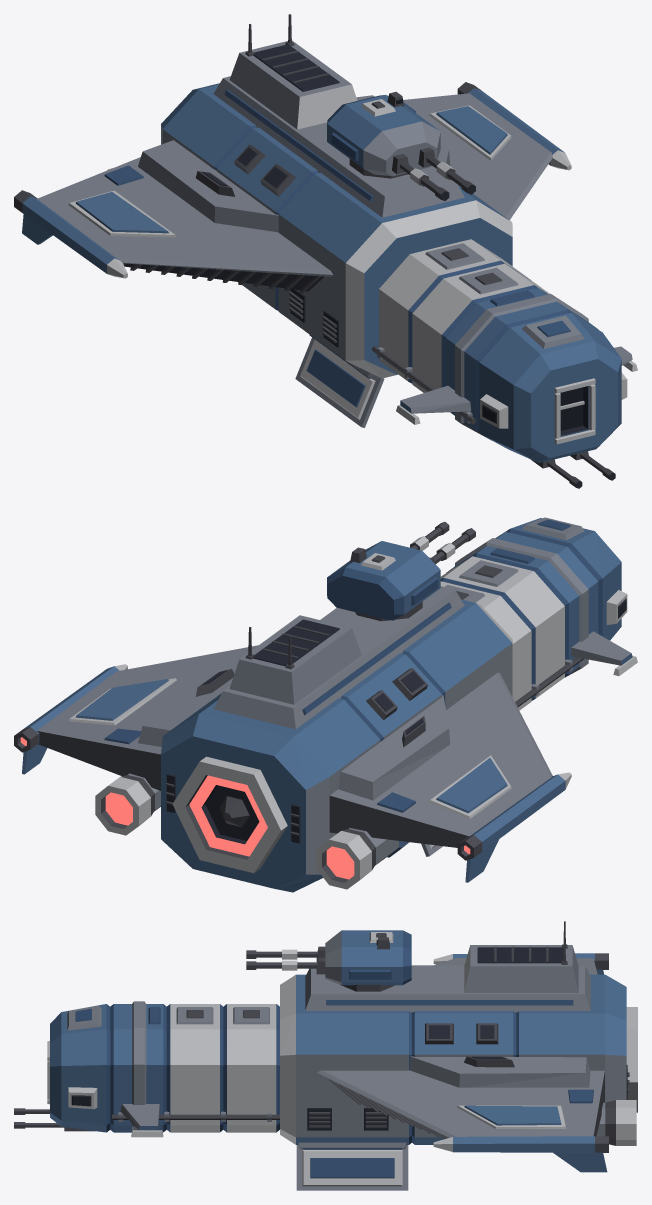
Rendered from heavy-bomber-62be39.glb.
3 views of the same model, one above another, from view 1: azimuth 30°, elevation 25°; view 2: azimuth 150°, elevation 25°; view 3: azimuth 270°, elevation 25° (orthographic). The views are drawn at different scales.
Parts seen in each view (by area): view 1: hull, turret-body, bay-door-l, turret-barrels; view 2: hull, turret-body, hull-glow, turret-barrels; view 3: hull, turret-body, bay-door-r, turret-barrels.
Boxes of the visible parts, x1,y1,x2,y2 form: hull: [14, 14, 637, 488]; turret-body: [327, 91, 440, 178]; bay-door-l: [295, 337, 384, 427]; turret-barrels: [392, 147, 475, 200]; hull: [14, 517, 637, 892]; turret-body: [327, 541, 440, 621]; hull-glow: [20, 737, 470, 879]; turret-barrels: [410, 521, 475, 564]; hull: [14, 921, 637, 1172]; turret-body: [325, 930, 411, 991]; bay-door-r: [296, 1145, 408, 1190]; turret-barrels: [246, 946, 325, 974].
Size of the model in its own units: 12.69 by 7.31 by 17.64.
